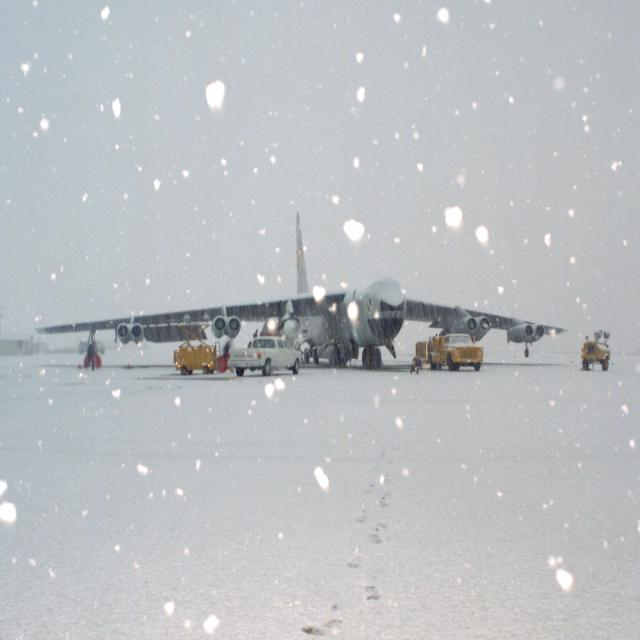MIL_Plane: (0, 30, 376, 165)
